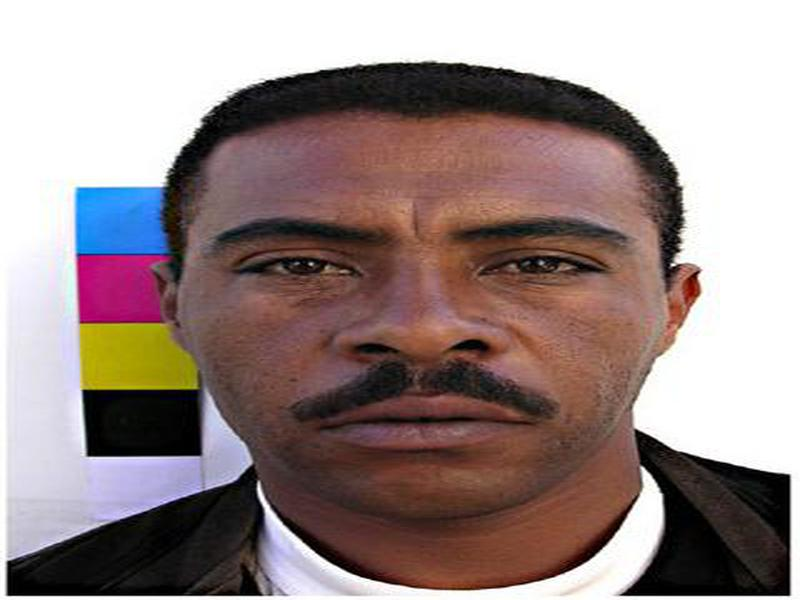without_mask: (187, 139, 662, 520)
